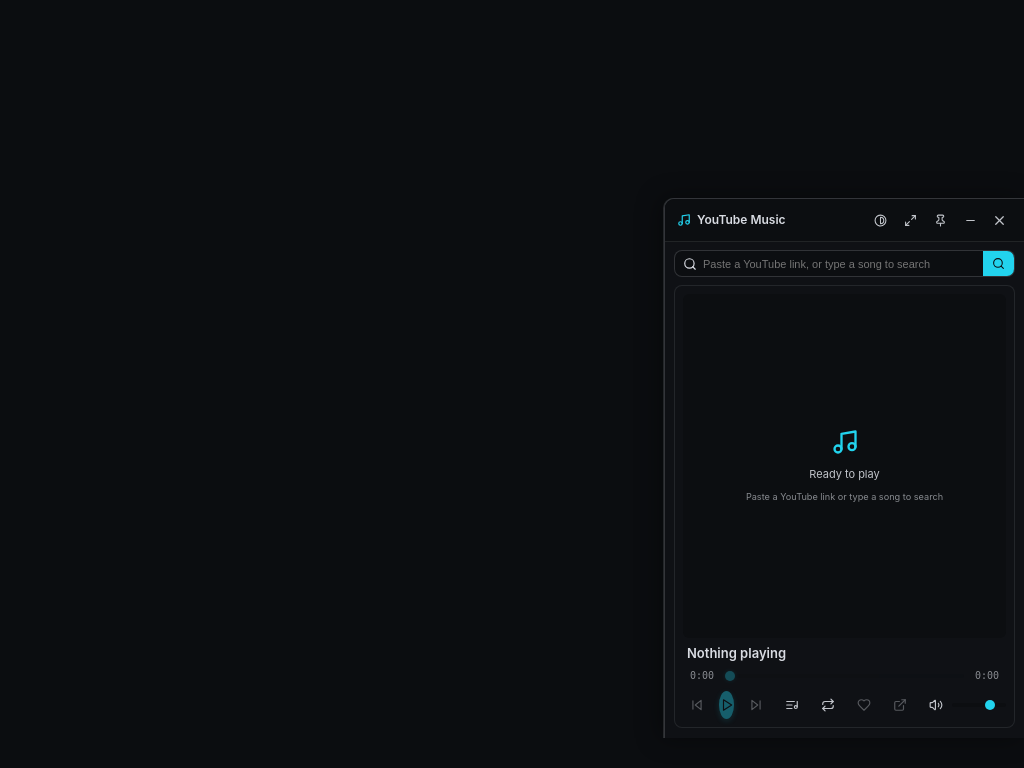
Test: MusicPanel modal implementation › renders the favorites heart (disabled without a track) and favorites tab in the drawer
Expected: the button named "Add to favorites" is disabled, [850,691,878,719]
What coordinates should you click on to do the following:
click the button named "Next playing list"
I would click on:
 (792, 705)
Its box is [778,691,806,719].
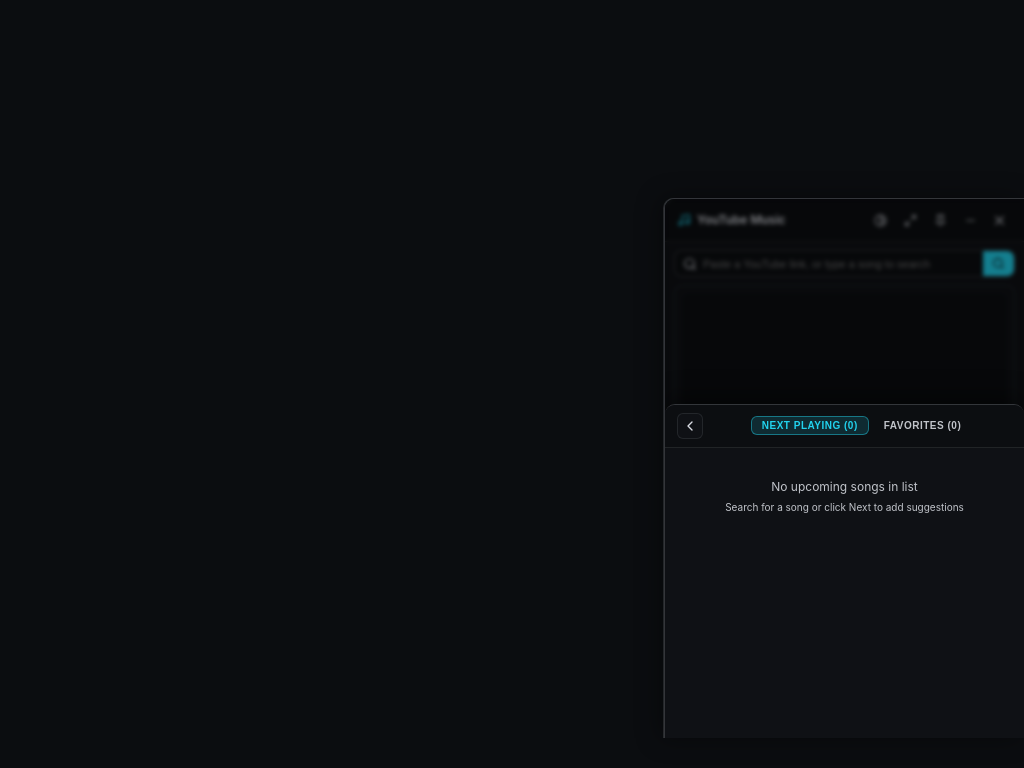
Expected: the tab with class "music-drawer-tab" shows "Next Playing", [751,416,869,435]
What coordinates should you click on to do the following:
click the tab with class "music-drawer-tab" showing "Favorites (0)"
I would click on:
 (923, 426)
Its box is [873,416,972,435].
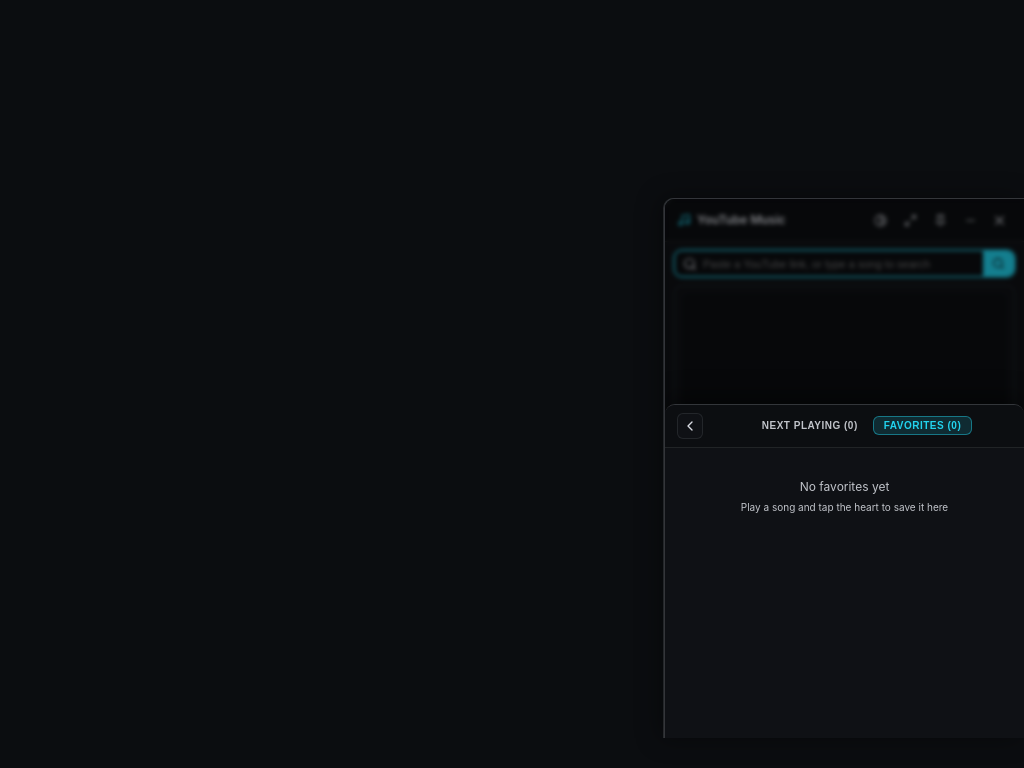
Expected: the element with class "music-drawer-empty" shows "No favorites yet", [800,479,889,494]
